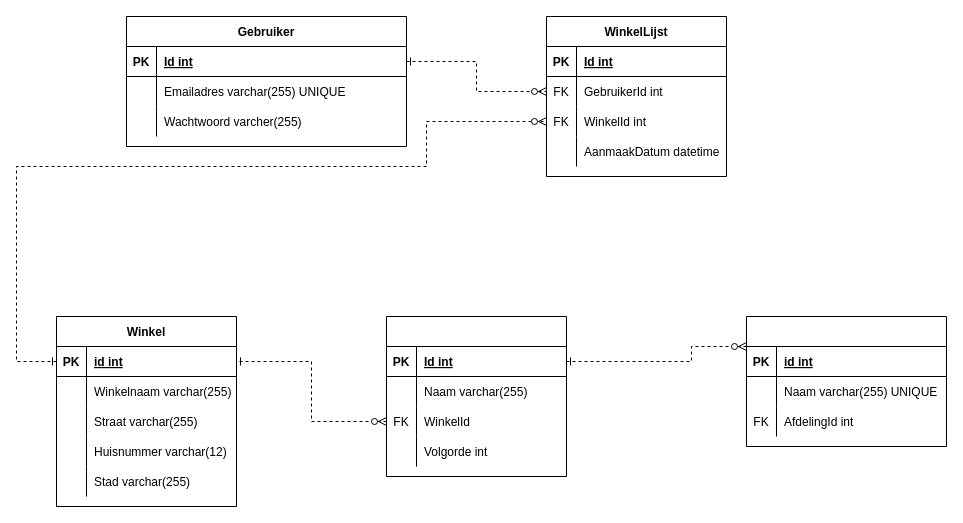
The diagram is 963 pixels wide and 523 high, and some of its shapes have lost their labels. Each missing label, with the box of its shape:
Afdeling: (386, 316, 566, 476)
Product: (746, 316, 946, 446)
